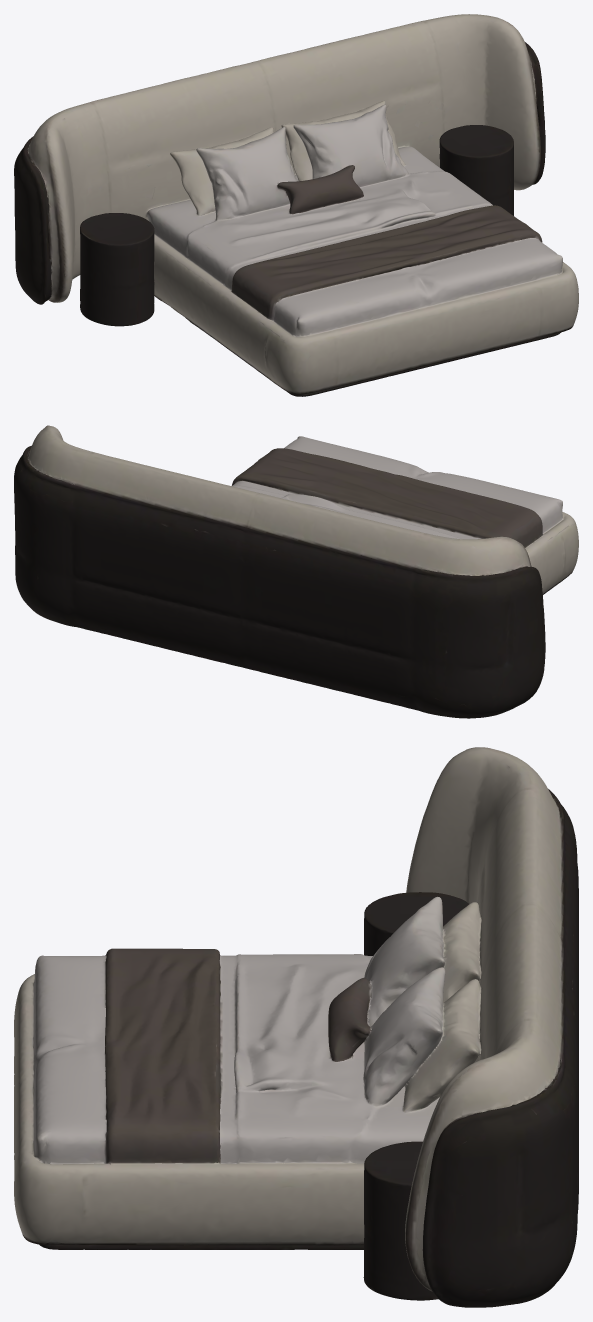
File: Modern Upholstered Platform Bed with Integrated Nightstands [aLee0k].glb
The picture shows the model from 3 angles, top to bottom: view 1: azimuth 30°, elevation 25°; view 2: azimuth 150°, elevation 25°; view 3: azimuth 270°, elevation 25°; orthographic projection. The views are drawn at different scales.
Visible parts, largest first — view 1: world; view 2: world; view 3: world.
Boxes of the visible parts, x1,y1,x2,y2 form: world: (14,14,578,396); world: (14,425,578,718); world: (14,747,578,1307).
Bounding box in the file's own units: 1 × 0.334 × 0.6758.
1 material, 1 textured.
